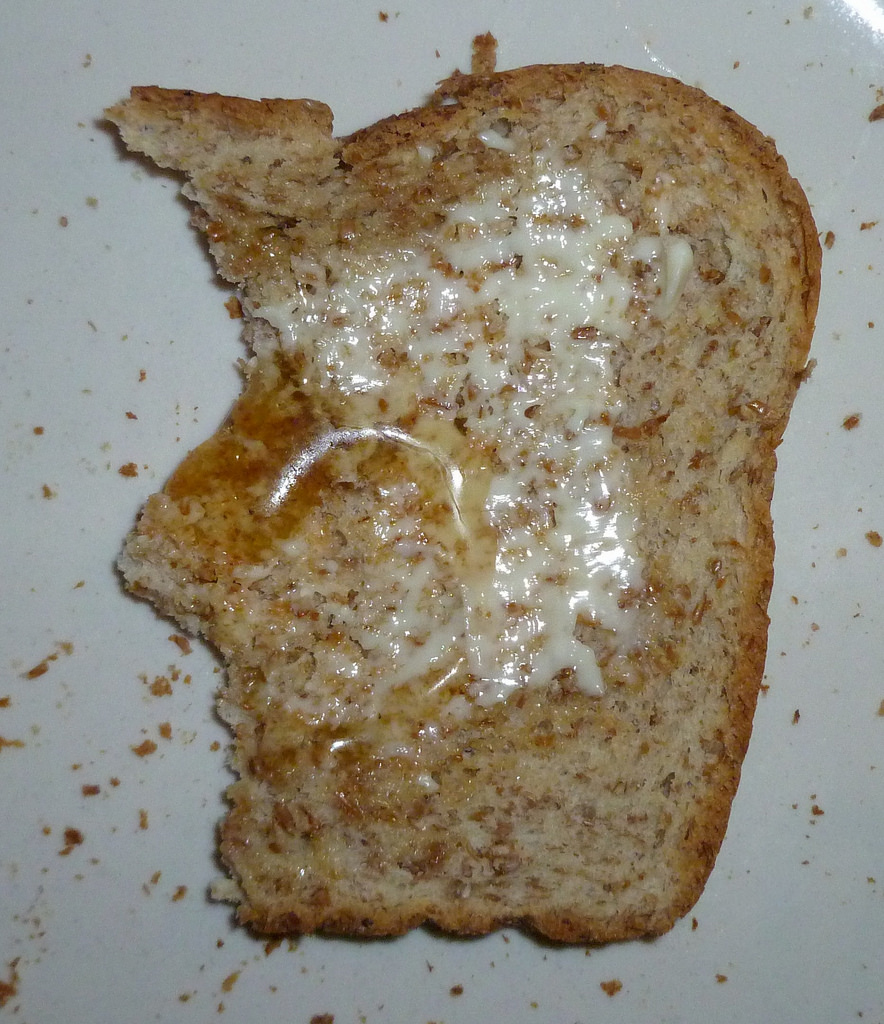slice of bread: (139, 44, 826, 975)
